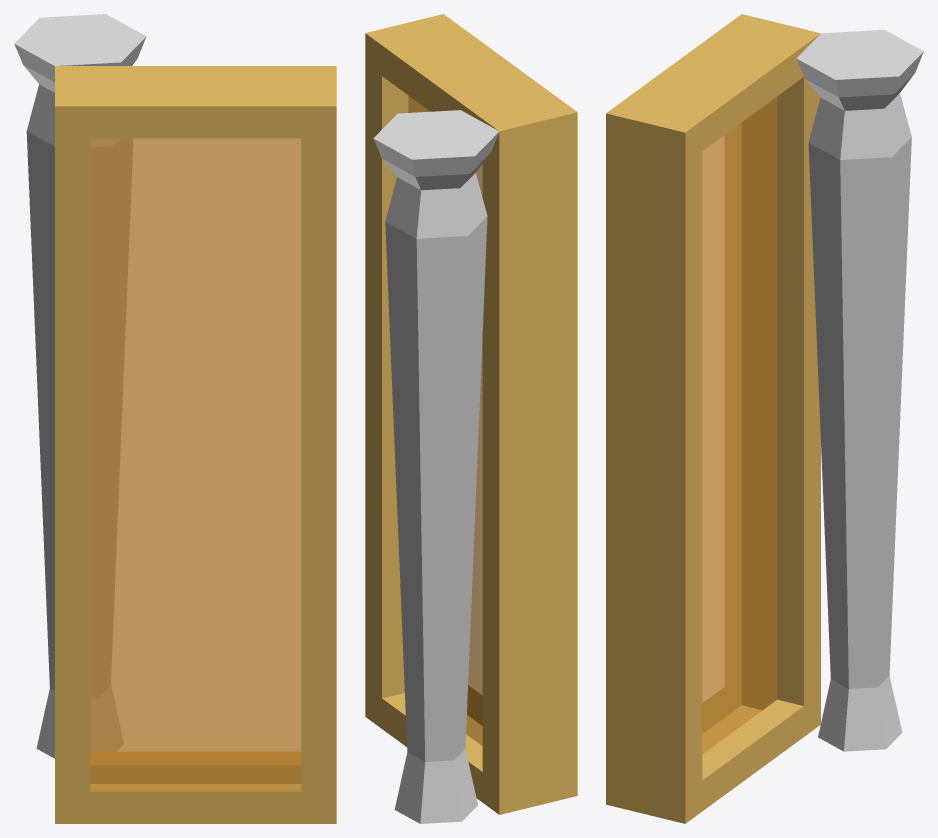
File: muro_vetro_arancione_regina.fbx
3 renders of one model, left to right at view 1: azimuth 30°, elevation 25°; view 2: azimuth 150°, elevation 25°; view 3: azimuth 270°, elevation 25°, orthographic. The views are drawn at different scales.
Visible parts, largest first — view 1: pareteGrande_mod02.004, pareteGrande_mod02.005, Cylinder.003; view 2: pareteGrande_mod02.005, Cylinder.003, pareteGrande_mod02.004; view 3: pareteGrande_mod02.005, Cylinder.003, pareteGrande_mod02.004.
Boxes of the visible parts, x1,y1,x2,y2 form: pareteGrande_mod02.004: (90, 138, 301, 791); pareteGrande_mod02.005: (55, 66, 336, 823); Cylinder.003: (14, 14, 146, 758); pareteGrande_mod02.005: (365, 14, 577, 814); Cylinder.003: (373, 110, 499, 823); pareteGrande_mod02.004: (408, 95, 482, 745); pareteGrande_mod02.005: (606, 14, 820, 823); Cylinder.003: (796, 29, 923, 751); pareteGrande_mod02.004: (702, 97, 777, 753).
Bounding box in the file's own units: 1831 × 4972 × 2072.
